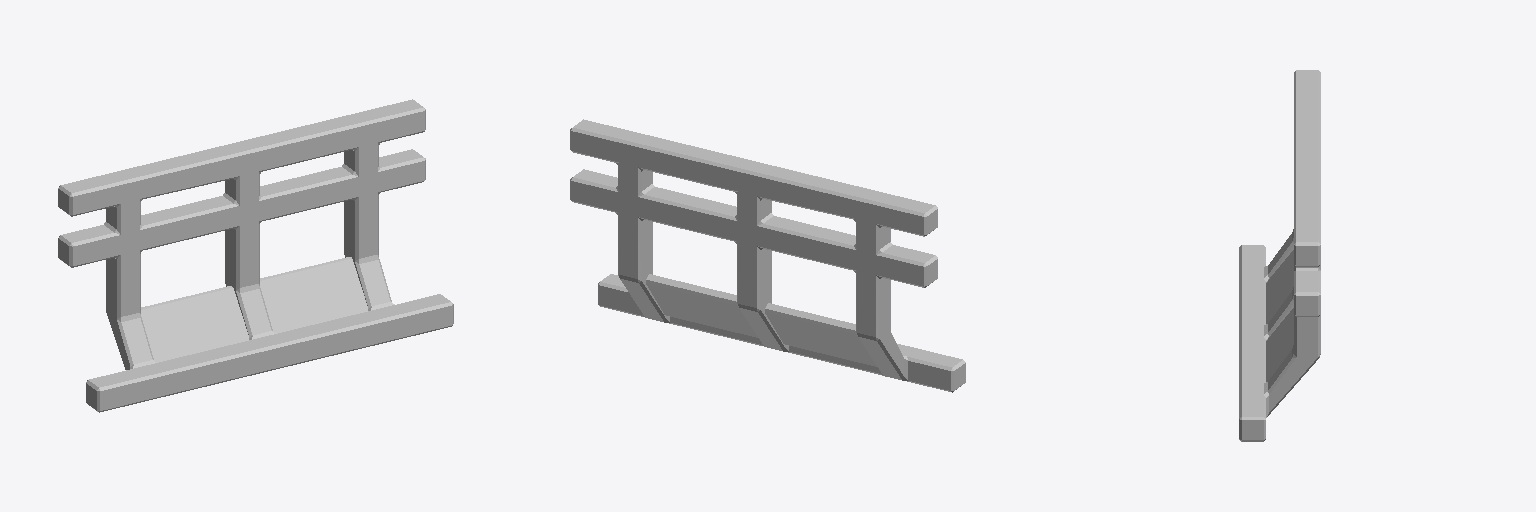
The model's file is fence.obj.
3 renders of one model, left to right at view 1: azimuth 30°, elevation 25°; view 2: azimuth 150°, elevation 25°; view 3: azimuth 270°, elevation 25°, orthographic.
Visible parts, largest first — view 1: Cube; view 2: Cube; view 3: Cube.
Part boxes in pixels (bbox=[...]): Cube: bbox=[58, 99, 453, 412]; Cube: bbox=[570, 119, 965, 392]; Cube: bbox=[1239, 70, 1320, 441].
Bounding box in the file's own units: 1.5 × 0.8 × 0.3.